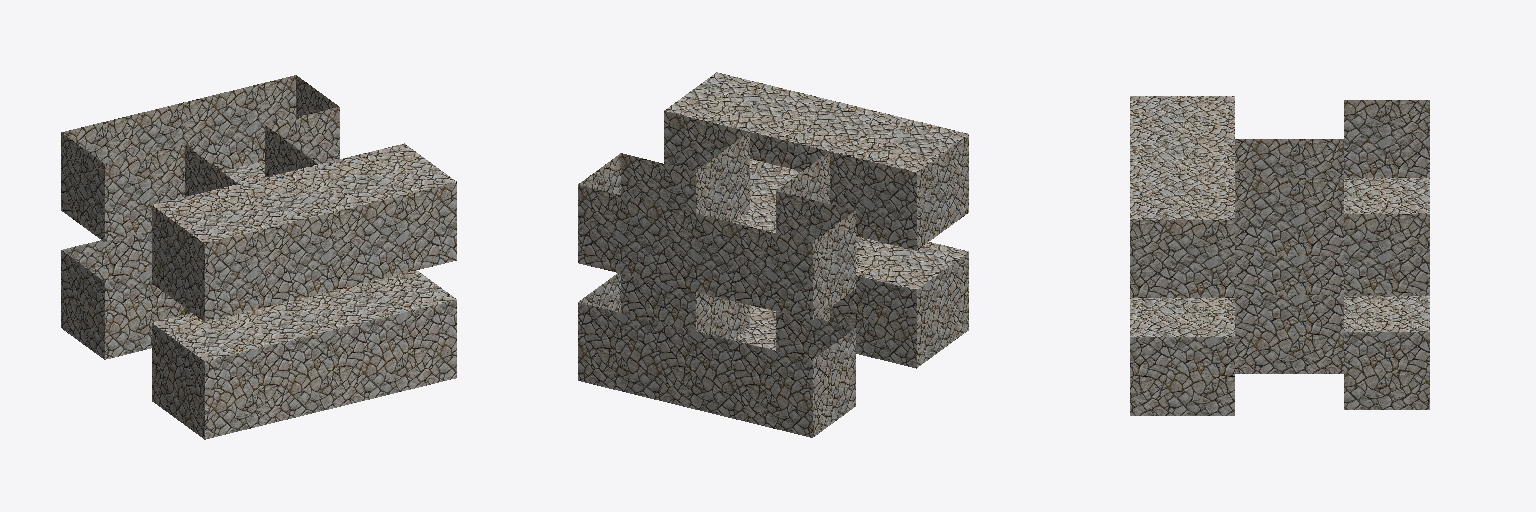
3 views of the same model, side by side, from view 1: azimuth 30°, elevation 25°; view 2: azimuth 150°, elevation 25°; view 3: azimuth 270°, elevation 25° (orthographic).
Visible parts, largest first — view 1: Cube_Cube.001; view 2: Cube_Cube.001; view 3: Cube_Cube.001.
Part boxes in pixels (x1,y1,x2,y2): Cube_Cube.001: (61, 75, 456, 439); Cube_Cube.001: (578, 72, 968, 437); Cube_Cube.001: (1130, 96, 1429, 415).
Bounding box in the file's own units: 6.75 × 5 × 6.94.
Materials: 1 (1 with a texture image).